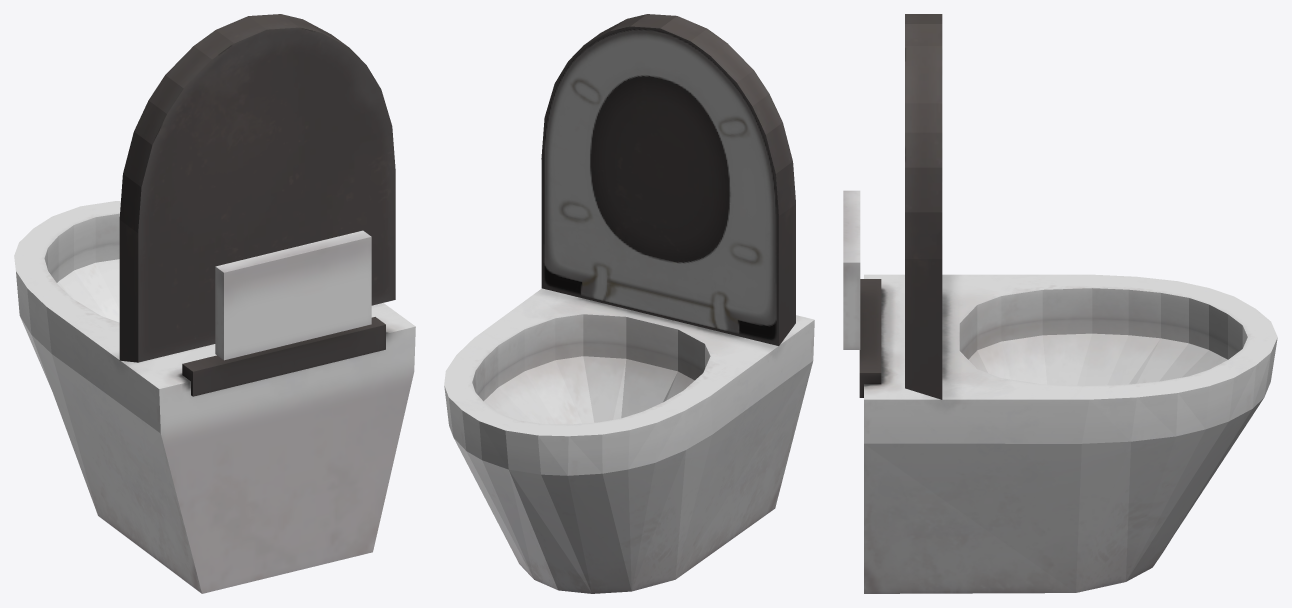
File: P_Toilet_001_S2_M01.obj
3 views of the same model, side by side, from view 1: azimuth 30°, elevation 25°; view 2: azimuth 150°, elevation 25°; view 3: azimuth 270°, elevation 25° (orthographic). The views are drawn at different scales.
Size of the model in its own units: 0.6943 by 1.36 by 1.02.
Materials: 2 (2 with a texture image).
